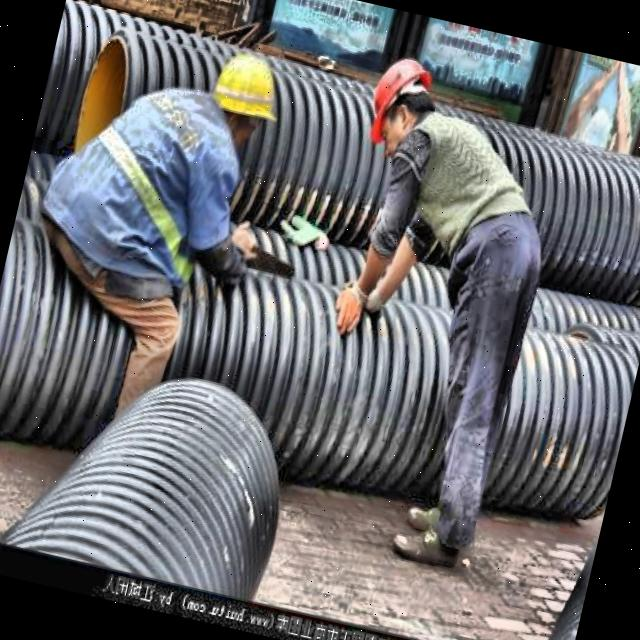helmet: (190, 41, 295, 168), (356, 46, 454, 162)
